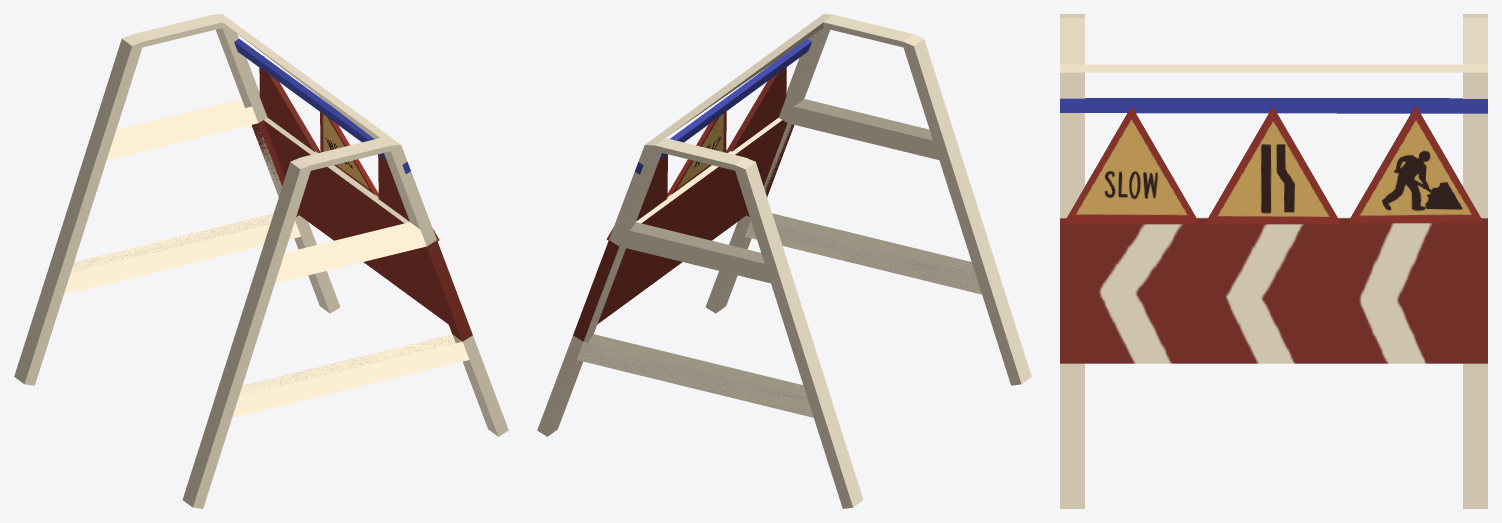
Rendered from barier 2.fbx.
3 views of the same model, side by side, from view 1: azimuth 30°, elevation 25°; view 2: azimuth 150°, elevation 25°; view 3: azimuth 270°, elevation 25° (orthographic). The views are drawn at different scales.
Parts seen in each view (by area): view 1: barier; view 2: barier; view 3: barier.
Boxes of the visible parts, bbox=[...] form: barier: bbox=[14, 14, 508, 508]; barier: bbox=[537, 14, 1031, 508]; barier: bbox=[1060, 14, 1487, 508].
Bounding box in the file's own units: 233 × 224 × 228.
